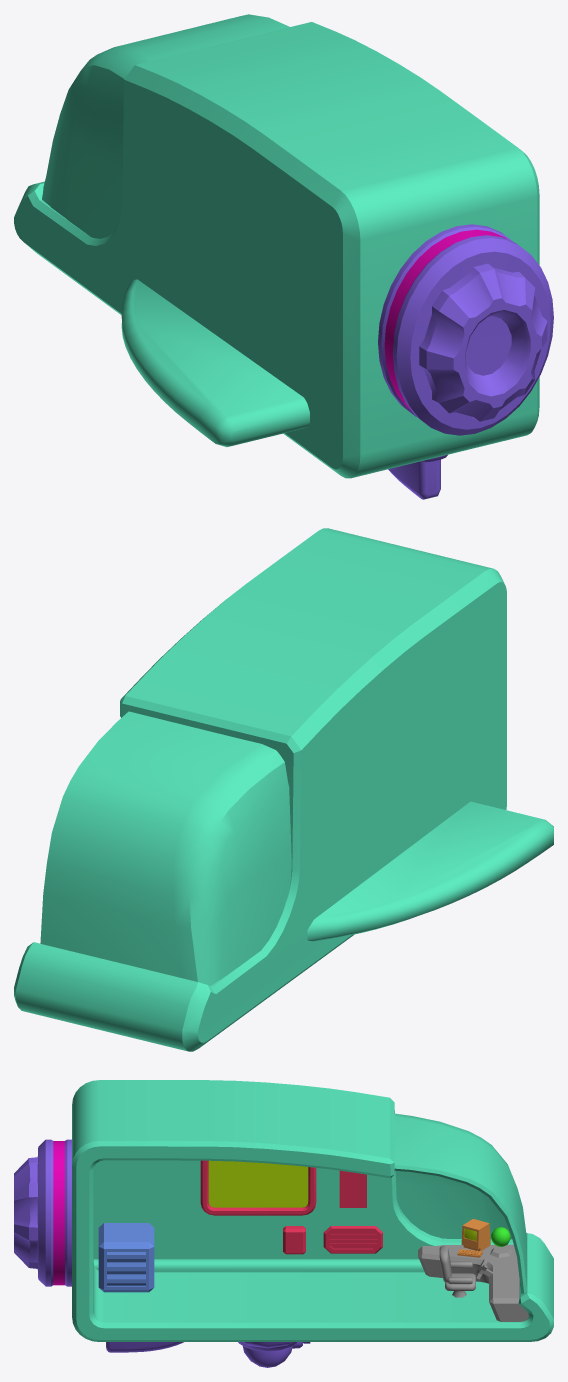
Rendered from Ship_01.fbx.
The picture shows the model from 3 angles, top to bottom: view 1: azimuth 30°, elevation 25°; view 2: azimuth 150°, elevation 25°; view 3: azimuth 270°, elevation 25°; orthographic projection. The views are drawn at different scales.
Parts seen in each view (by area): view 1: Cube, Cube.009, Cube.001, Cube.005, Cube.004, Cube.006; view 2: Cube, Cube.005, Cube.001; view 3: Cube, Cube.005, Cube.009, Cube.023, Cube.012, Cube.015, Cube.021, Cube.004, Cylinder.004, Cube.007, Cube.018, Cube.006.
Boxes of the visible parts, x1,y1,x2,y2 form: Cube: (14, 22, 539, 478); Cube.009: (378, 224, 553, 435); Cube.001: (121, 279, 309, 447); Cube.005: (42, 14, 289, 238); Cube.004: (384, 229, 507, 409); Cube.006: (388, 454, 447, 499); Cube: (14, 528, 506, 1051); Cube.005: (40, 711, 291, 985); Cube.001: (307, 801, 553, 941); Cube: (72, 1080, 553, 1341); Cube.005: (394, 1113, 527, 1294); Cube.009: (14, 1139, 71, 1286); Cube.023: (208, 1160, 308, 1207); Cube.012: (98, 1223, 154, 1292); Cube.015: (93, 1259, 424, 1272); Cube.021: (200, 1160, 316, 1215); Cube.004: (53, 1141, 64, 1285); Cylinder.004: (439, 1245, 475, 1297); Cube.007: (238, 1342, 297, 1367); Cube.018: (461, 1219, 490, 1251); Cube.006: (106, 1342, 183, 1352).
Bounding box in the file's own units: 8.25 × 9.71 × 19.43.
